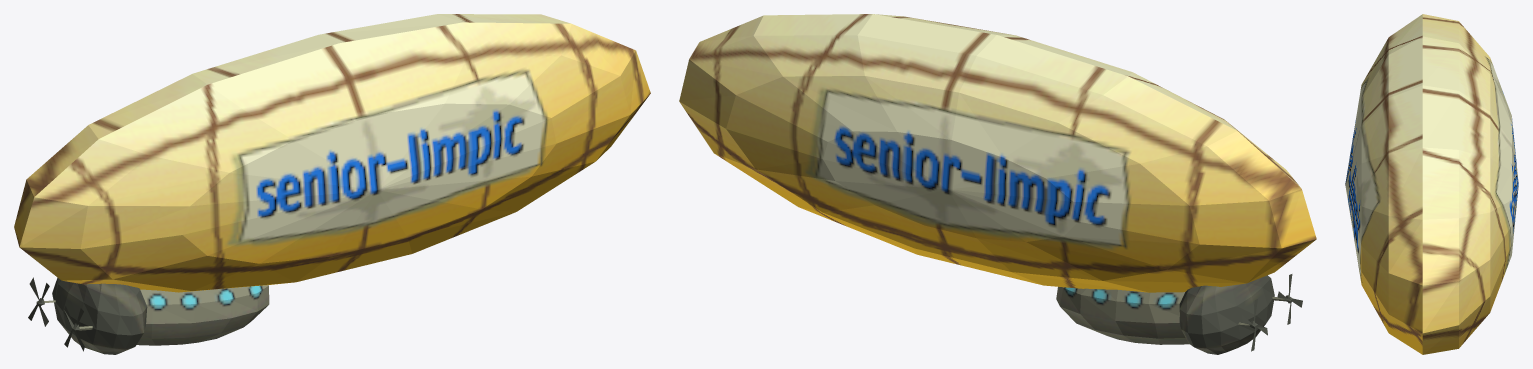
Rendered from Zepplin.glb.
3 views of the same model, side by side, from view 1: azimuth 30°, elevation 25°; view 2: azimuth 150°, elevation 25°; view 3: azimuth 270°, elevation 25° (orthographic). The views are drawn at different scales.
Visible parts, largest first — view 1: Zepplin; view 2: Zepplin; view 3: Zepplin.
Part boxes in pixels (box(x1,y1,x2,y2)): Zepplin: box(14, 14, 650, 354); Zepplin: box(679, 14, 1316, 354); Zepplin: box(1345, 14, 1518, 354).
Bounding box in the file's own units: 437 × 174 × 117.
1 material, 1 textured.
